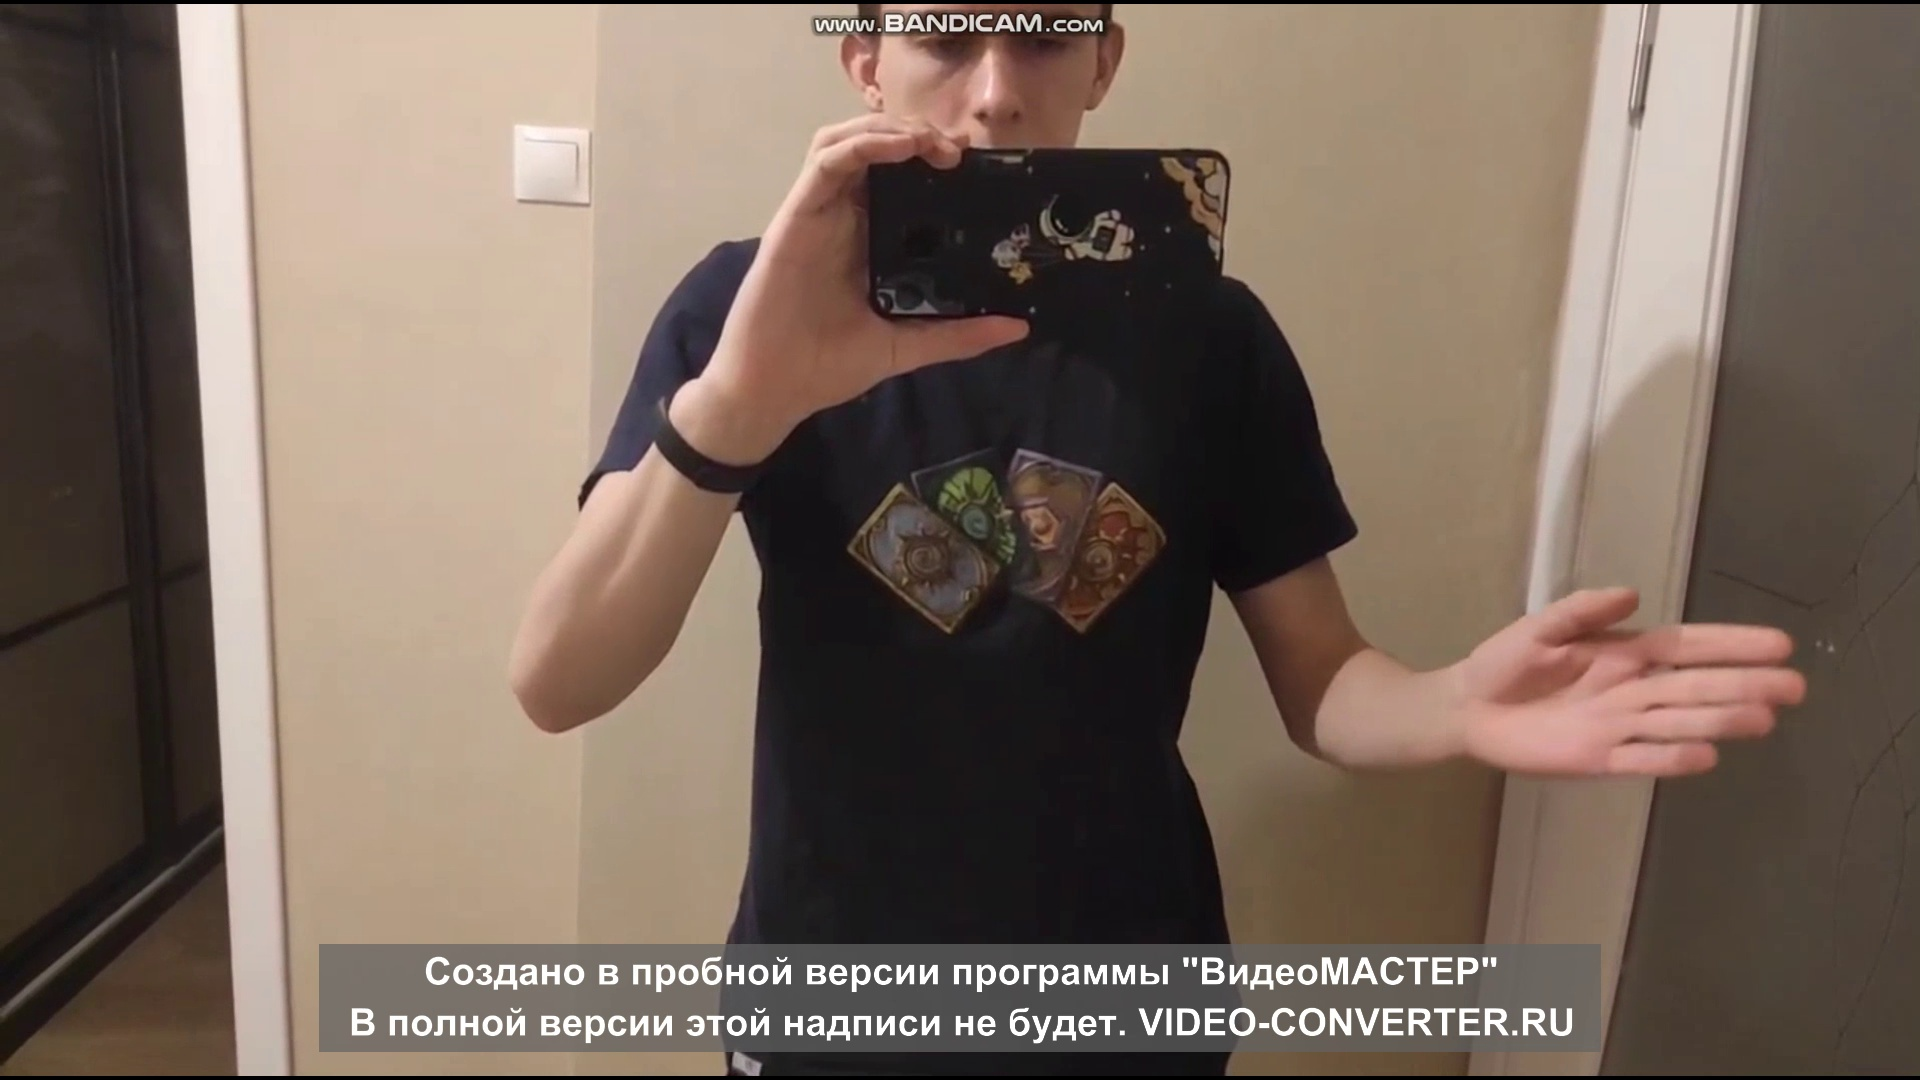Ладонь: (1468, 585, 1807, 773)
